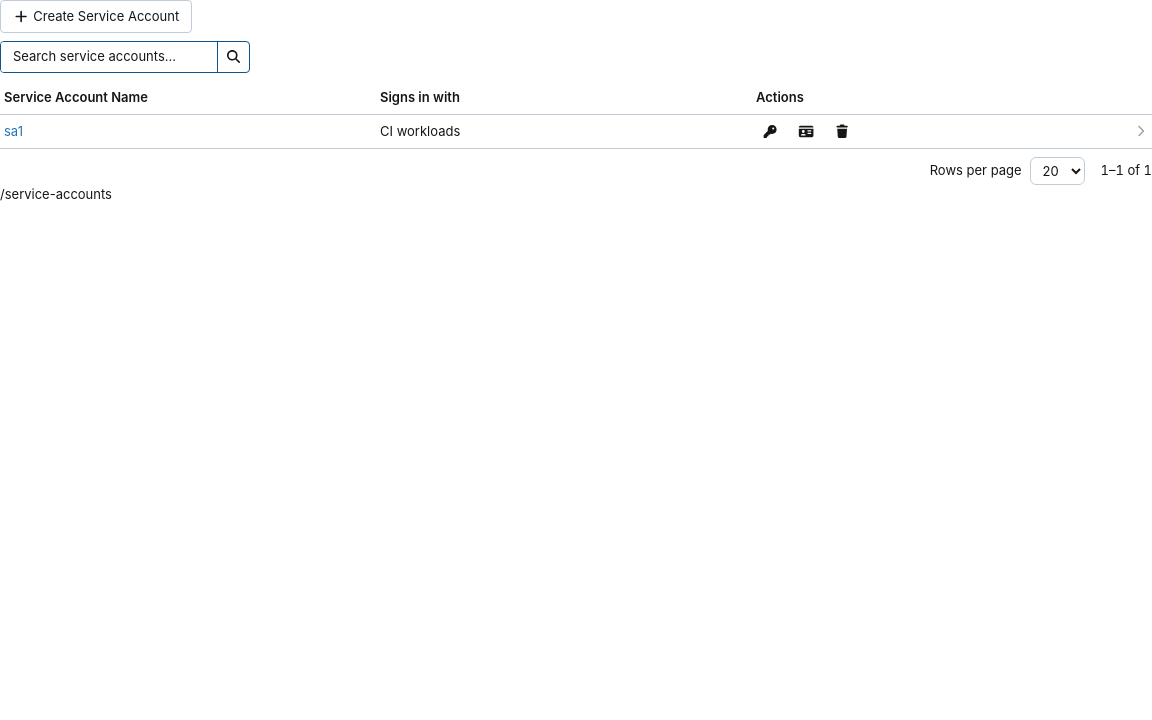
ServiceAccountsPage › shows how each service account signs in, and opens the change dialog
The width and height of the screenshot is (1152, 720).
Expected: the column heading "Signs in with" is shown, [380,89,460,105]
Expected: the text "CI workloads" is shown, [380,123,460,139]
Click the button titled "How it signs in". click: [770, 131]
box: [756,117,784,145]
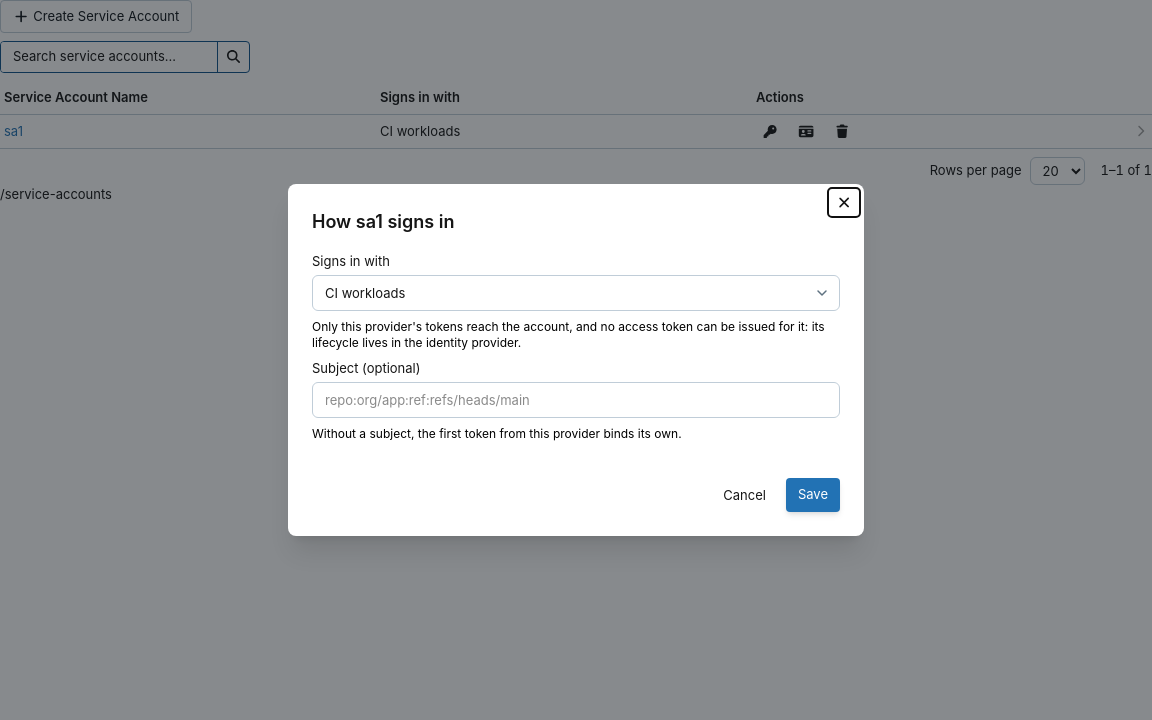
Now the heading "How sa1 signs in" is shown, box [312,211,454,232]
